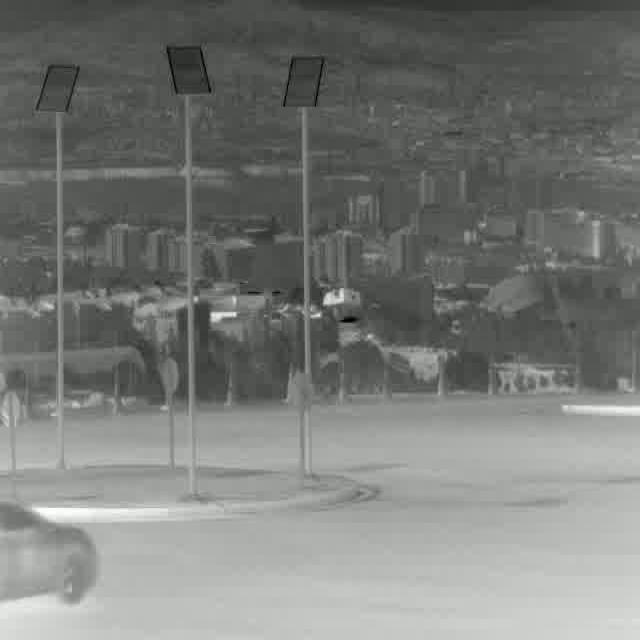Car: (0, 499, 98, 609)
